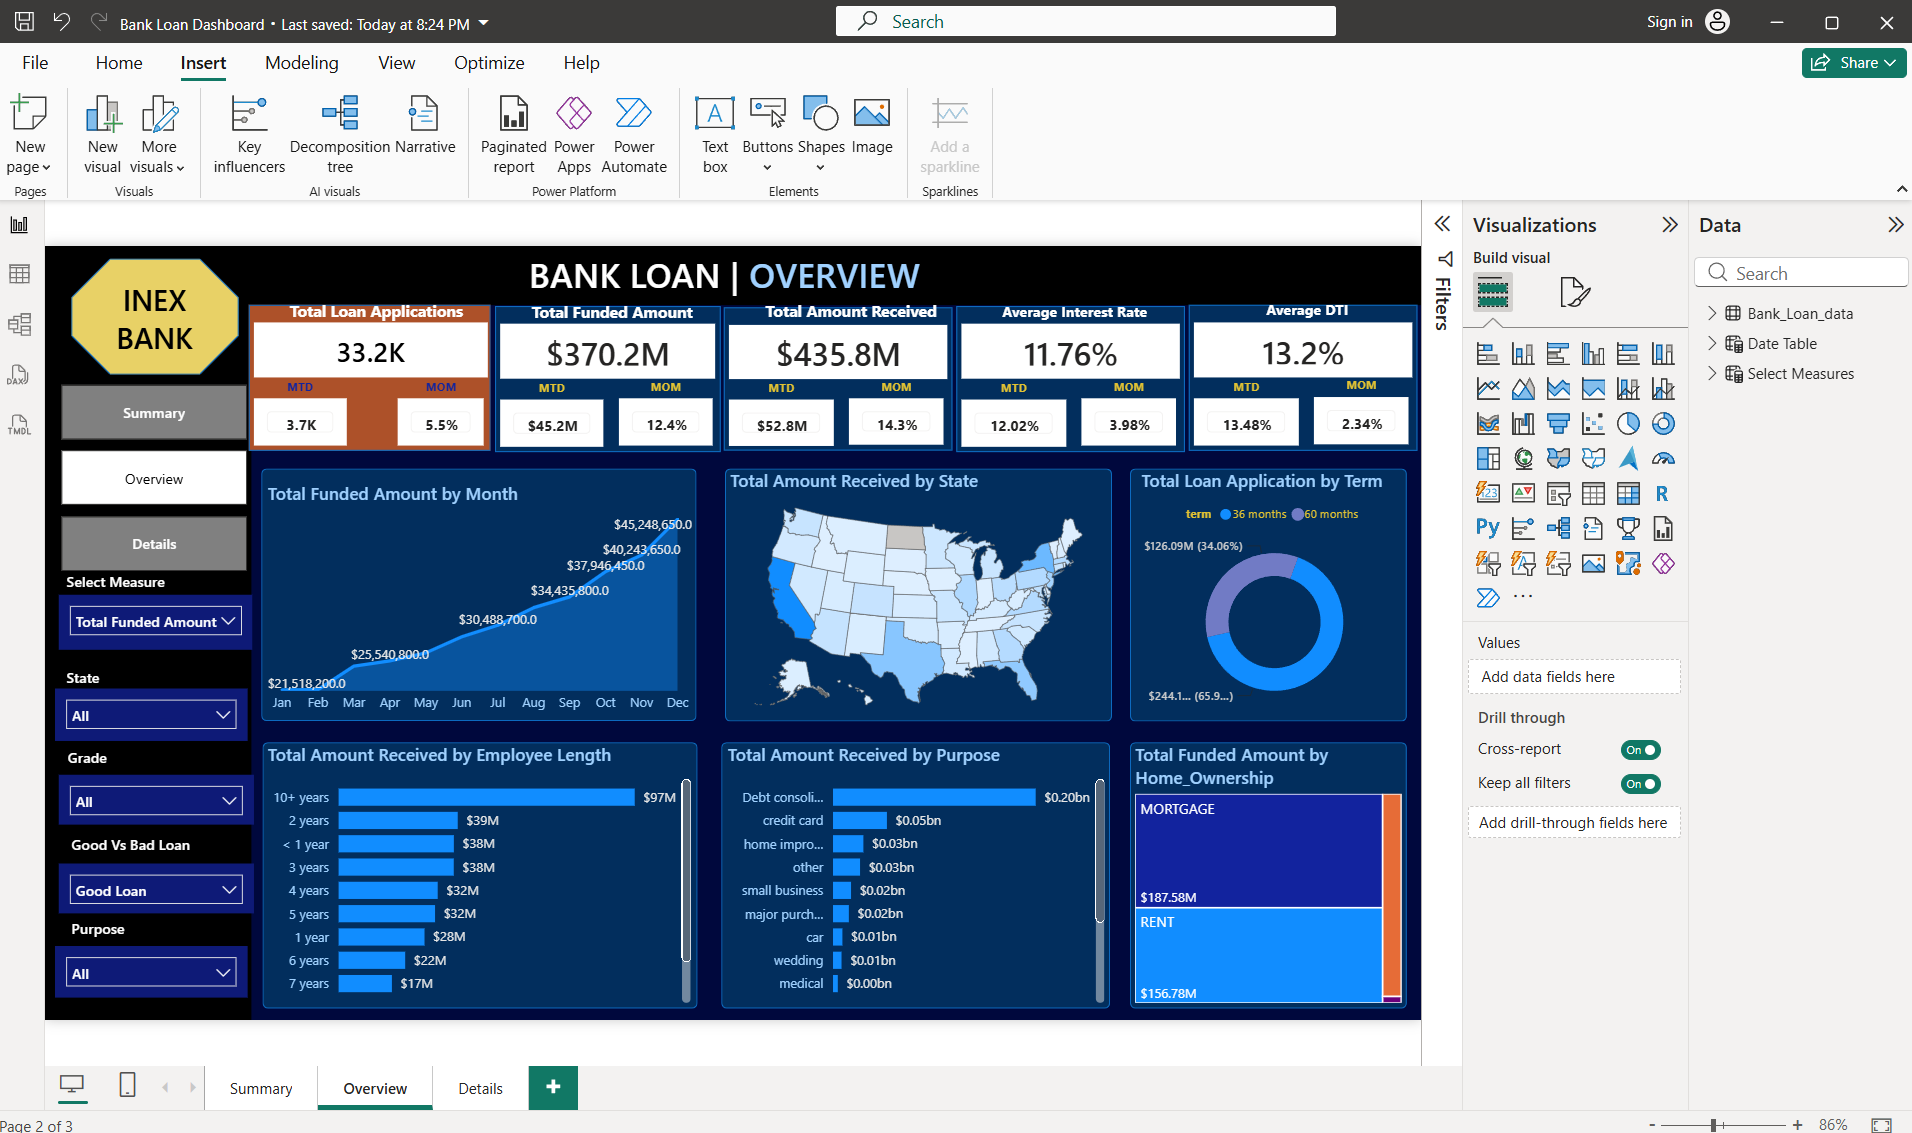

The dashboard page shown, as its layout file describes it:
{"tool":"powerbi","page":{"name":"Overview ","canvas":[1280,720],"ordinal":1},"visuals":[{"type":"shape","box":[189.4,54.7,225,135.9],"z":0,"group":"g1"},{"type":"shape","box":[1063.5,54.7,212.8,135.9],"z":0,"group":"g5"},{"type":"shape","box":[418.9,56.1,210,135.9],"z":0,"group":"g2"},{"type":"shape","box":[847.7,56.1,212.8,135.9],"z":0,"group":"g4"},{"type":"shape","box":[631.9,57.2,212.8,133.4],"z":0,"group":"g3"},{"type":"shape","box":[201.7,207.2,405,235],"z":0},{"type":"shape","box":[0,0,1280.3,55],"z":1000},{"type":"cardVisual","fields":{"Data":["Bank_Loan_data.Total Loan Application"]},"box":[189.4,65.7,227.8,61.2],"z":1000,"group":"g1"},{"type":"cardVisual","fields":{"Data":["Bank_Loan_data.AvG DTI"]},"box":[1063.5,65.7,213.7,61.2],"z":1000,"group":"g5"},{"type":"cardVisual","fields":{"Data":["Bank_Loan_data.Total Funded Amount"]},"box":[418.9,67.1,210.9,61.2],"z":1000,"group":"g2"},{"type":"cardVisual","fields":{"Data":["Bank_Loan_data.AvG Interest Rate"]},"box":[847.7,67.1,213.7,61.2],"z":1000,"group":"g4"},{"type":"cardVisual","fields":{"Data":["Bank_Loan_data.Total Amount Received"]},"box":[631.9,68,213.7,60],"z":1000,"group":"g3"},{"type":"textbox","box":[197.1,44.9,220.9,31.6],"z":2000,"group":"g1"},{"type":"textbox","box":[651.2,45.2,197.6,30.2],"z":2000,"group":"g3"},{"type":"textbox","box":[1074.9,45.3,197.2,31.3],"z":2000,"group":"g5"},{"type":"textbox","box":[430.1,46.7,194.7,31.3],"z":2000,"group":"g2"},{"type":"textbox","box":[859.1,46.7,197.2,31.3],"z":2000,"group":"g4"},{"type":"shape","box":[0,54.9,192,665.5],"z":2000},{"type":"textbox","box":[445.1,0,397.3,55.2],"z":3000},{"type":"cardVisual","title":"MTD","fields":{"Data":["Bank_Loan_data.MTD Total Loan Applications"]},"box":[189.4,122.6,96.1,68],"z":3000,"group":"g1"},{"type":"cardVisual","title":"MTD","fields":{"Data":["Bank_Loan_data.MTD Avg DTI"]},"box":[1063.8,123.1,107.7,68],"z":3000,"group":"g5"},{"type":"cardVisual","title":"MTD","fields":{"Data":["Bank_Loan_data.MTD Amount Received"]},"box":[632.2,124.3,107.7,66.7],"z":3000,"group":"g3"},{"type":"cardVisual","title":"MTD","fields":{"Data":["Bank_Loan_data.MTD Funded Amount"]},"box":[419.2,124.5,106.3,68],"z":3000,"group":"g2"},{"type":"cardVisual","title":"MTD","fields":{"Data":["Bank_Loan_data.MTD AvG Interest"]},"box":[848,124.5,107.7,68],"z":3000,"group":"g4"},{"type":"group","id":"g1","title":"Group 1","box":[189.4,44.9,228.7,145.7],"z":4000},{"type":"cardVisual","title":"MOM","fields":{"Data":["Bank_Loan_data.MOM AvG DTI"]},"box":[1175.4,121.7,98.6,68],"z":4000,"group":"g5"},{"type":"cardVisual","title":"MOM","fields":{"Data":["Bank_Loan_data.MOM Loan Application"]},"box":[323.6,122.6,90.8,68],"z":4000,"group":"g1"},{"type":"cardVisual","title":"MOM","fields":{"Data":["Bank_Loan_data.MOM Amount Received"]},"box":[743.8,123,98.6,66.7],"z":4000,"group":"g3"},{"type":"cardVisual","title":"MOM","fields":{"Data":["Bank_Loan_data.MOM Funded Amount"]},"box":[529.4,123.1,97.3,68],"z":4000,"group":"g2"},{"type":"cardVisual","title":"MOM","fields":{"Data":["Bank_Loan_data.MOM AvG Interest Rate"]},"box":[959.6,123.1,98.6,68],"z":4000,"group":"g4"},{"type":"group","id":"g2","title":"Group 1","box":[418.9,46.7,211.3,145.5],"z":5000},{"type":"group","id":"g3","title":"Group 1","box":[631.9,45.2,216.9,145.8],"z":6000},{"type":"group","id":"g4","title":"Group 1","box":[847.7,46.7,214.1,145.5],"z":7000},{"type":"group","id":"g5","title":"Group 1","box":[1063.5,45.3,214.1,145.5],"z":8000},{"type":"slicer","fields":{"Values":["Bank_Loan_data.address_state"]},"box":[9.8,412,179,49.1],"z":9000},{"type":"textbox","box":[14.7,387.5,78.5,30.7],"z":10000},{"type":"slicer","fields":{"Values":["Bank_Loan_data.grade"]},"box":[12.3,491.7,181.5,46.6],"z":11000},{"type":"slicer","fields":{"Values":["Bank_Loan_data.purpose"]},"box":[9.8,651.2,179,47.8],"z":12000},{"type":"textbox","box":[15.9,461.1,79.7,30.7],"z":13000},{"type":"textbox","box":[19.6,620.5,80.9,30.7],"z":14000},{"type":"areaChart","fields":{"Y":["Bank_Loan_data.Total Loan Application"],"Category":["Date Table.Month"]},"box":[202.3,218.3,404.7,224.4],"z":15000},{"type":"slicer","fields":{"Values":["Select Measures.Select Measures"]},"box":[12.3,325,180.3,51.5],"z":16000},{"type":"textbox","box":[14.7,298,128.8,36.8],"z":17000},{"type":"shape","box":[632.8,207.2,360,235.4],"z":18000},{"type":"shapeMap","title":"Total Amount Received by State","fields":{"Value":["Bank_Loan_data.Total Loan Application"],"Category":["Bank_Loan_data.address_state"]},"box":[632.8,207.2,360.5,235.4],"z":19000},{"type":"shape","box":[1009.2,207.2,257.5,235.4],"z":20000},{"type":"donutChart","title":"Total Loan Application by Term","fields":{"Y":["Bank_Loan_data.Total Loan Application"],"Category":["Bank_Loan_data.term"]},"box":[1015.4,207.2,257.5,235.4],"z":21000},{"type":"shape","box":[202.3,461.1,404.7,247.7],"z":22000},{"type":"barChart","title":"Total Amount Received by Employee Length","fields":{"Y":["Bank_Loan_data.Total Loan Application"],"Category":["Bank_Loan_data.emp_length"]},"box":[202.3,461.1,403.5,247.7],"z":23000},{"type":"shape","box":[629.1,461.1,361.8,247.7],"z":24000},{"type":"barChart","title":"Total Amount Received by Purpose","fields":{"Y":["Bank_Loan_data.Total Loan Application"],"Category":["Bank_Loan_data.purpose"]},"box":[630.3,461.1,360.5,247.7],"z":25000},{"type":"shape","box":[1009.2,461.1,257.5,247.7],"z":26000},{"type":"treemap","fields":{"Values":["Bank_Loan_data.Total Loan Application"],"Group":["Bank_Loan_data.home_ownership"]},"box":[1009.2,461.1,257.5,247.7],"z":27000},{"type":"slicer","fields":{"Values":["Bank_Loan_data.Good VS Bad Loan"]},"box":[12.3,573.9,181.5,46.6],"z":28000},{"type":"textbox","box":[19.6,543.2,138.6,30.7],"z":29000},{"type":"pageNavigator","box":[15.1,129.1,173.3,174.4],"z":30000},{"type":"shape","box":[24.4,11.6,155.8,108.1],"z":31000},{"type":"textbox","box":[47.7,26.7,108.1,81.4],"z":32000}]}

Visuals, with their boxes on the page's 1280x720 design canvas (x1, y1, x2, y2). These are canvas units, not pixel positions in the 1912x1133 screenshot, which may show the page scaled, cropped or inside an application window:
shape: <bbox>189, 55, 414, 191</bbox>
shape: <bbox>1064, 55, 1276, 191</bbox>
shape: <bbox>419, 56, 629, 192</bbox>
shape: <bbox>848, 56, 1060, 192</bbox>
shape: <bbox>632, 57, 845, 191</bbox>
shape: <bbox>202, 207, 607, 442</bbox>
shape: <bbox>0, 0, 1280, 55</bbox>
cardVisual - Bank_Loan_data.Total Loan Application: <bbox>189, 66, 417, 127</bbox>
cardVisual - Bank_Loan_data.AvG DTI: <bbox>1064, 66, 1277, 127</bbox>
cardVisual - Bank_Loan_data.Total Funded Amount: <bbox>419, 67, 630, 128</bbox>
cardVisual - Bank_Loan_data.AvG Interest Rate: <bbox>848, 67, 1061, 128</bbox>
cardVisual - Bank_Loan_data.Total Amount Received: <bbox>632, 68, 846, 128</bbox>
textbox: <bbox>197, 45, 418, 76</bbox>
textbox: <bbox>651, 45, 849, 75</bbox>
textbox: <bbox>1075, 45, 1272, 77</bbox>
textbox: <bbox>430, 47, 625, 78</bbox>
textbox: <bbox>859, 47, 1056, 78</bbox>
shape: <bbox>0, 55, 192, 720</bbox>
textbox: <bbox>445, 0, 842, 55</bbox>
"MTD" cardVisual: <bbox>189, 123, 286, 191</bbox>
"MTD" cardVisual: <bbox>1064, 123, 1172, 191</bbox>
"MTD" cardVisual: <bbox>632, 124, 740, 191</bbox>
"MTD" cardVisual: <bbox>419, 124, 526, 192</bbox>
"MTD" cardVisual: <bbox>848, 124, 956, 192</bbox>
"Group 1" group: <bbox>189, 45, 418, 191</bbox>
"MOM" cardVisual: <bbox>1175, 122, 1274, 190</bbox>
"MOM" cardVisual: <bbox>324, 123, 414, 191</bbox>
"MOM" cardVisual: <bbox>744, 123, 842, 190</bbox>
"MOM" cardVisual: <bbox>529, 123, 627, 191</bbox>
"MOM" cardVisual: <bbox>960, 123, 1058, 191</bbox>
"Group 1" group: <bbox>419, 47, 630, 192</bbox>
"Group 1" group: <bbox>632, 45, 849, 191</bbox>
"Group 1" group: <bbox>848, 47, 1062, 192</bbox>
"Group 1" group: <bbox>1064, 45, 1278, 191</bbox>
slicer - Bank_Loan_data.address_state: <bbox>10, 412, 189, 461</bbox>
textbox: <bbox>15, 388, 93, 418</bbox>
slicer - Bank_Loan_data.grade: <bbox>12, 492, 194, 538</bbox>
slicer - Bank_Loan_data.purpose: <bbox>10, 651, 189, 699</bbox>
textbox: <bbox>16, 461, 96, 492</bbox>
textbox: <bbox>20, 620, 100, 651</bbox>
areaChart - Bank_Loan_data.Total Loan Application x Date Table.Month: <bbox>202, 218, 607, 443</bbox>
slicer - Select Measures.Select Measures: <bbox>12, 325, 193, 376</bbox>
textbox: <bbox>15, 298, 144, 335</bbox>
shape: <bbox>633, 207, 993, 443</bbox>
"Total Amount Received by State" shapeMap: <bbox>633, 207, 993, 443</bbox>
shape: <bbox>1009, 207, 1267, 443</bbox>
"Total Loan Application by Term" donutChart: <bbox>1015, 207, 1273, 443</bbox>
shape: <bbox>202, 461, 607, 709</bbox>
"Total Amount Received by Employee Length" barChart: <bbox>202, 461, 606, 709</bbox>
shape: <bbox>629, 461, 991, 709</bbox>
"Total Amount Received by Purpose" barChart: <bbox>630, 461, 991, 709</bbox>
shape: <bbox>1009, 461, 1267, 709</bbox>
treemap - Bank_Loan_data.Total Loan Application x Bank_Loan_data.home_ownership: <bbox>1009, 461, 1267, 709</bbox>
slicer - Bank_Loan_data.Good VS Bad Loan: <bbox>12, 574, 194, 620</bbox>
textbox: <bbox>20, 543, 158, 574</bbox>
pageNavigator: <bbox>15, 129, 188, 304</bbox>
shape: <bbox>24, 12, 180, 120</bbox>
textbox: <bbox>48, 27, 156, 108</bbox>
